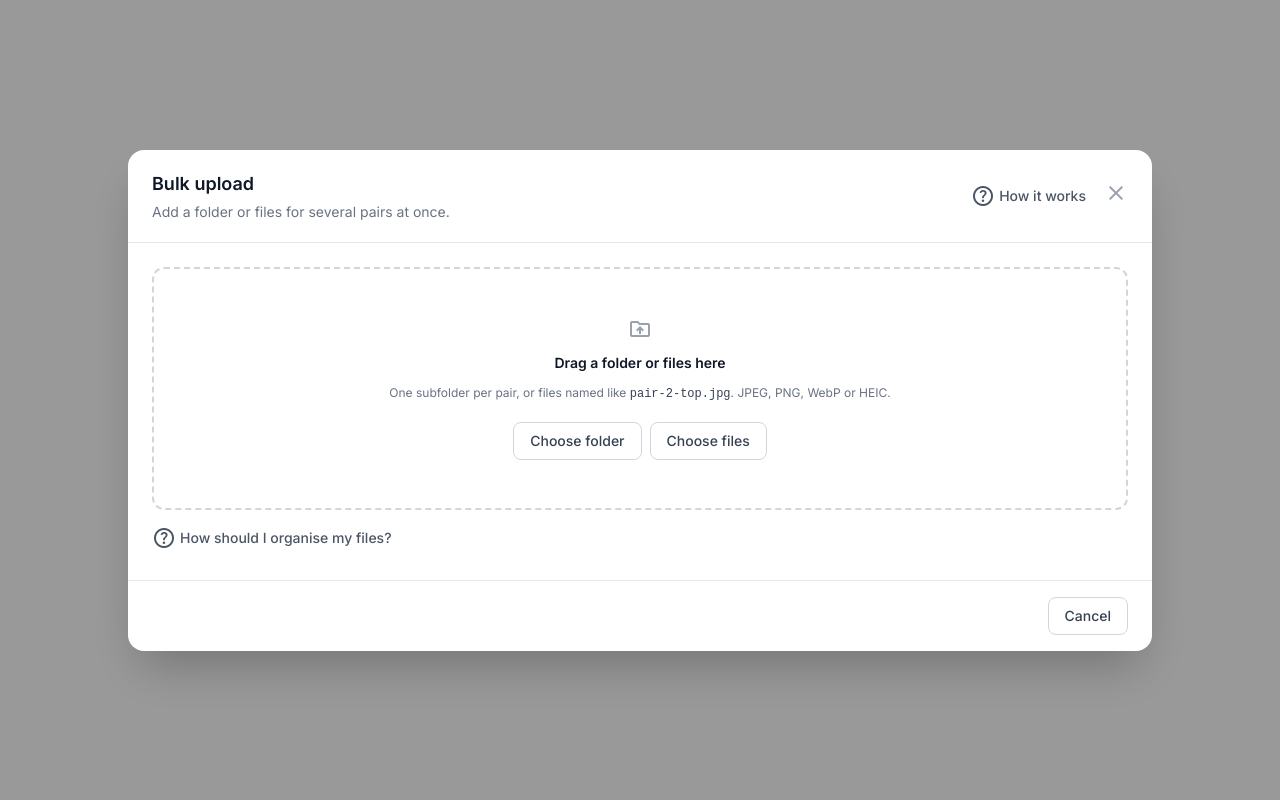
Scenario: BulkUploadModal guide › reopens from How it works and closes on Escape without closing the modal
Click the button "How it works" at [1029, 196], box [961,178,1096,214]
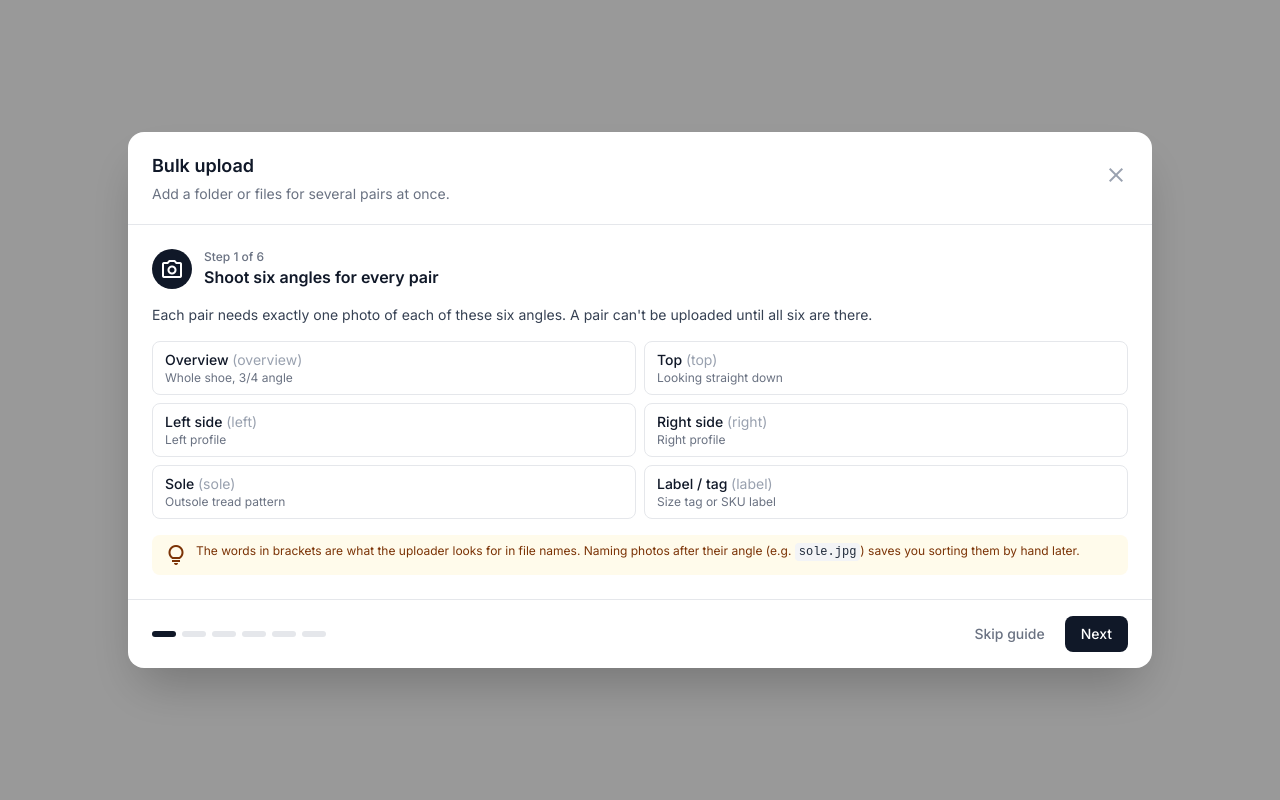
Expected: the heading "Shoot six angles for every pair" is shown, [204,265,438,289]
Press Escape in the dialog
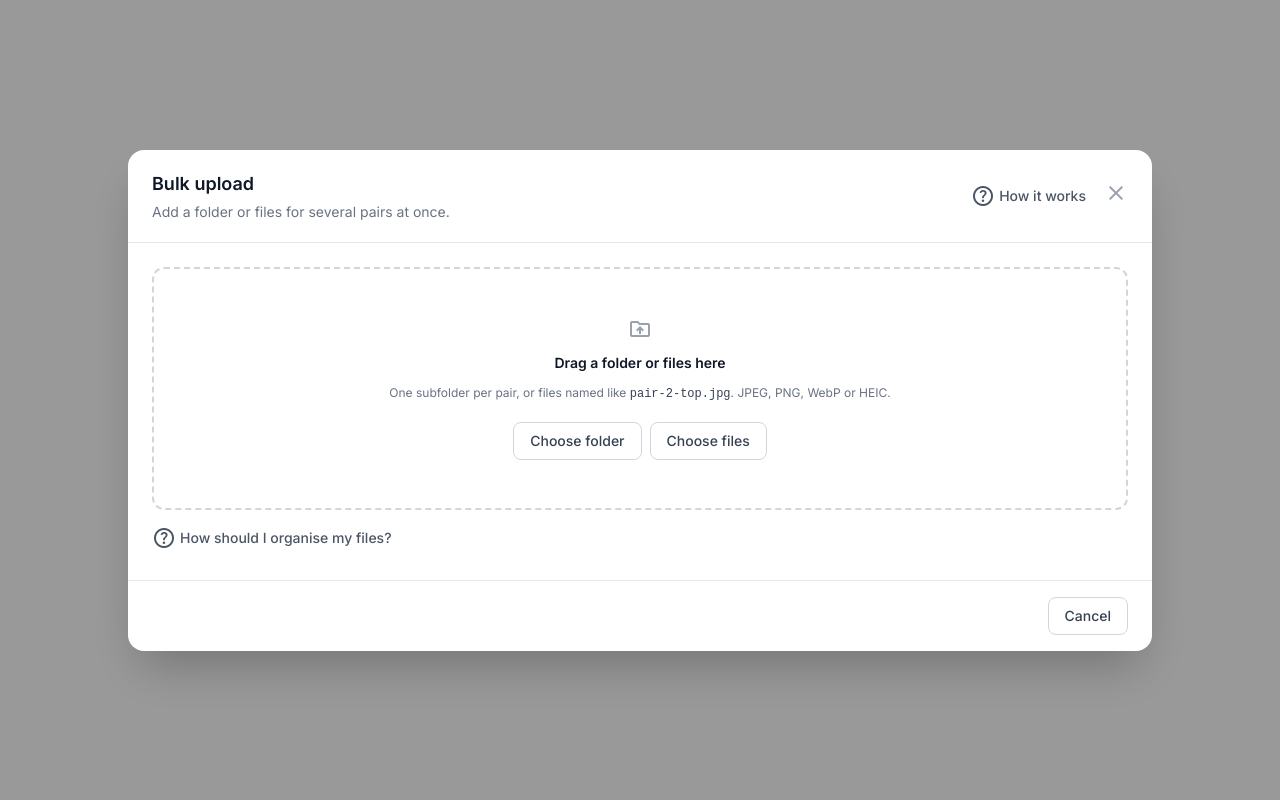
Expected: the heading "Shoot six angles for every pair" is gone
